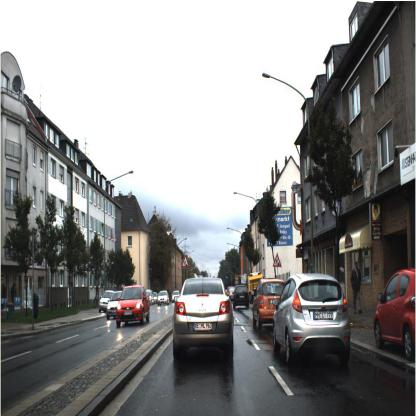danger: (271, 250, 283, 270), (179, 252, 190, 271)
